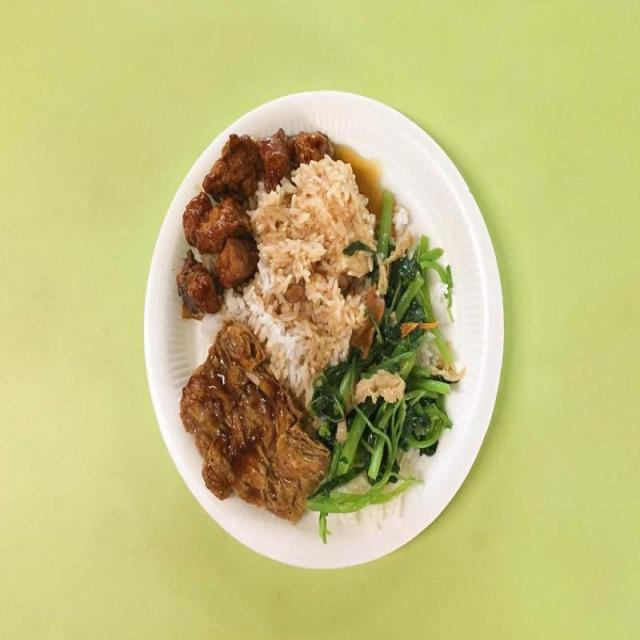Green veg: (308, 191, 457, 542)
Pork: (176, 129, 331, 317)
Rice: (225, 156, 388, 404)
Tofu: (180, 320, 329, 519)
